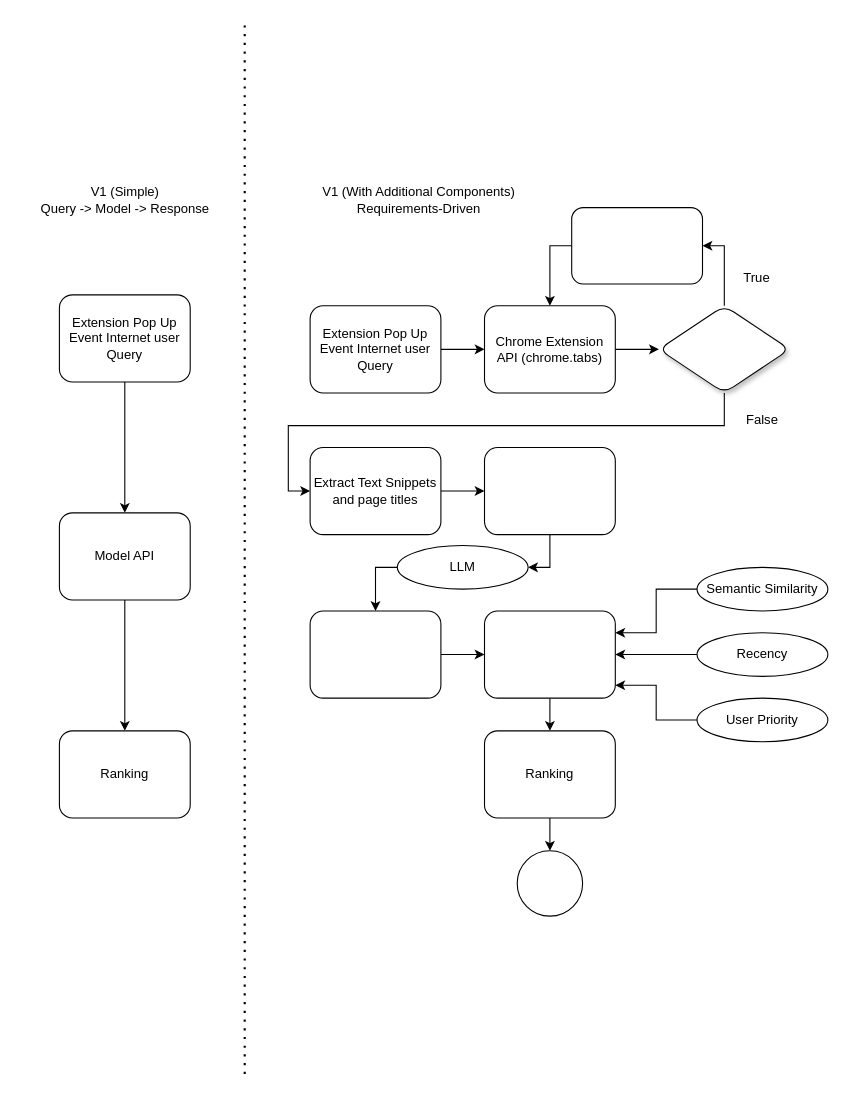
Some shapes in this 847 by 1094 pixel diagram are drawn without their labels. Here are the shapes that lost their labels. From the top down, the centre of each, then its label:
At (x=637, y=245): "Ignore and switch to next tab".
At (x=724, y=350): "Is tab sensitive?".
At (x=549, y=490): "Pass Metadata through client side embedding".
At (x=375, y=654): "Feed embeddings, timestamps and user priority weights into the scoring engine".
At (x=549, y=654): "Calculate multi-dimensional score".
At (x=549, y=883): "End".
